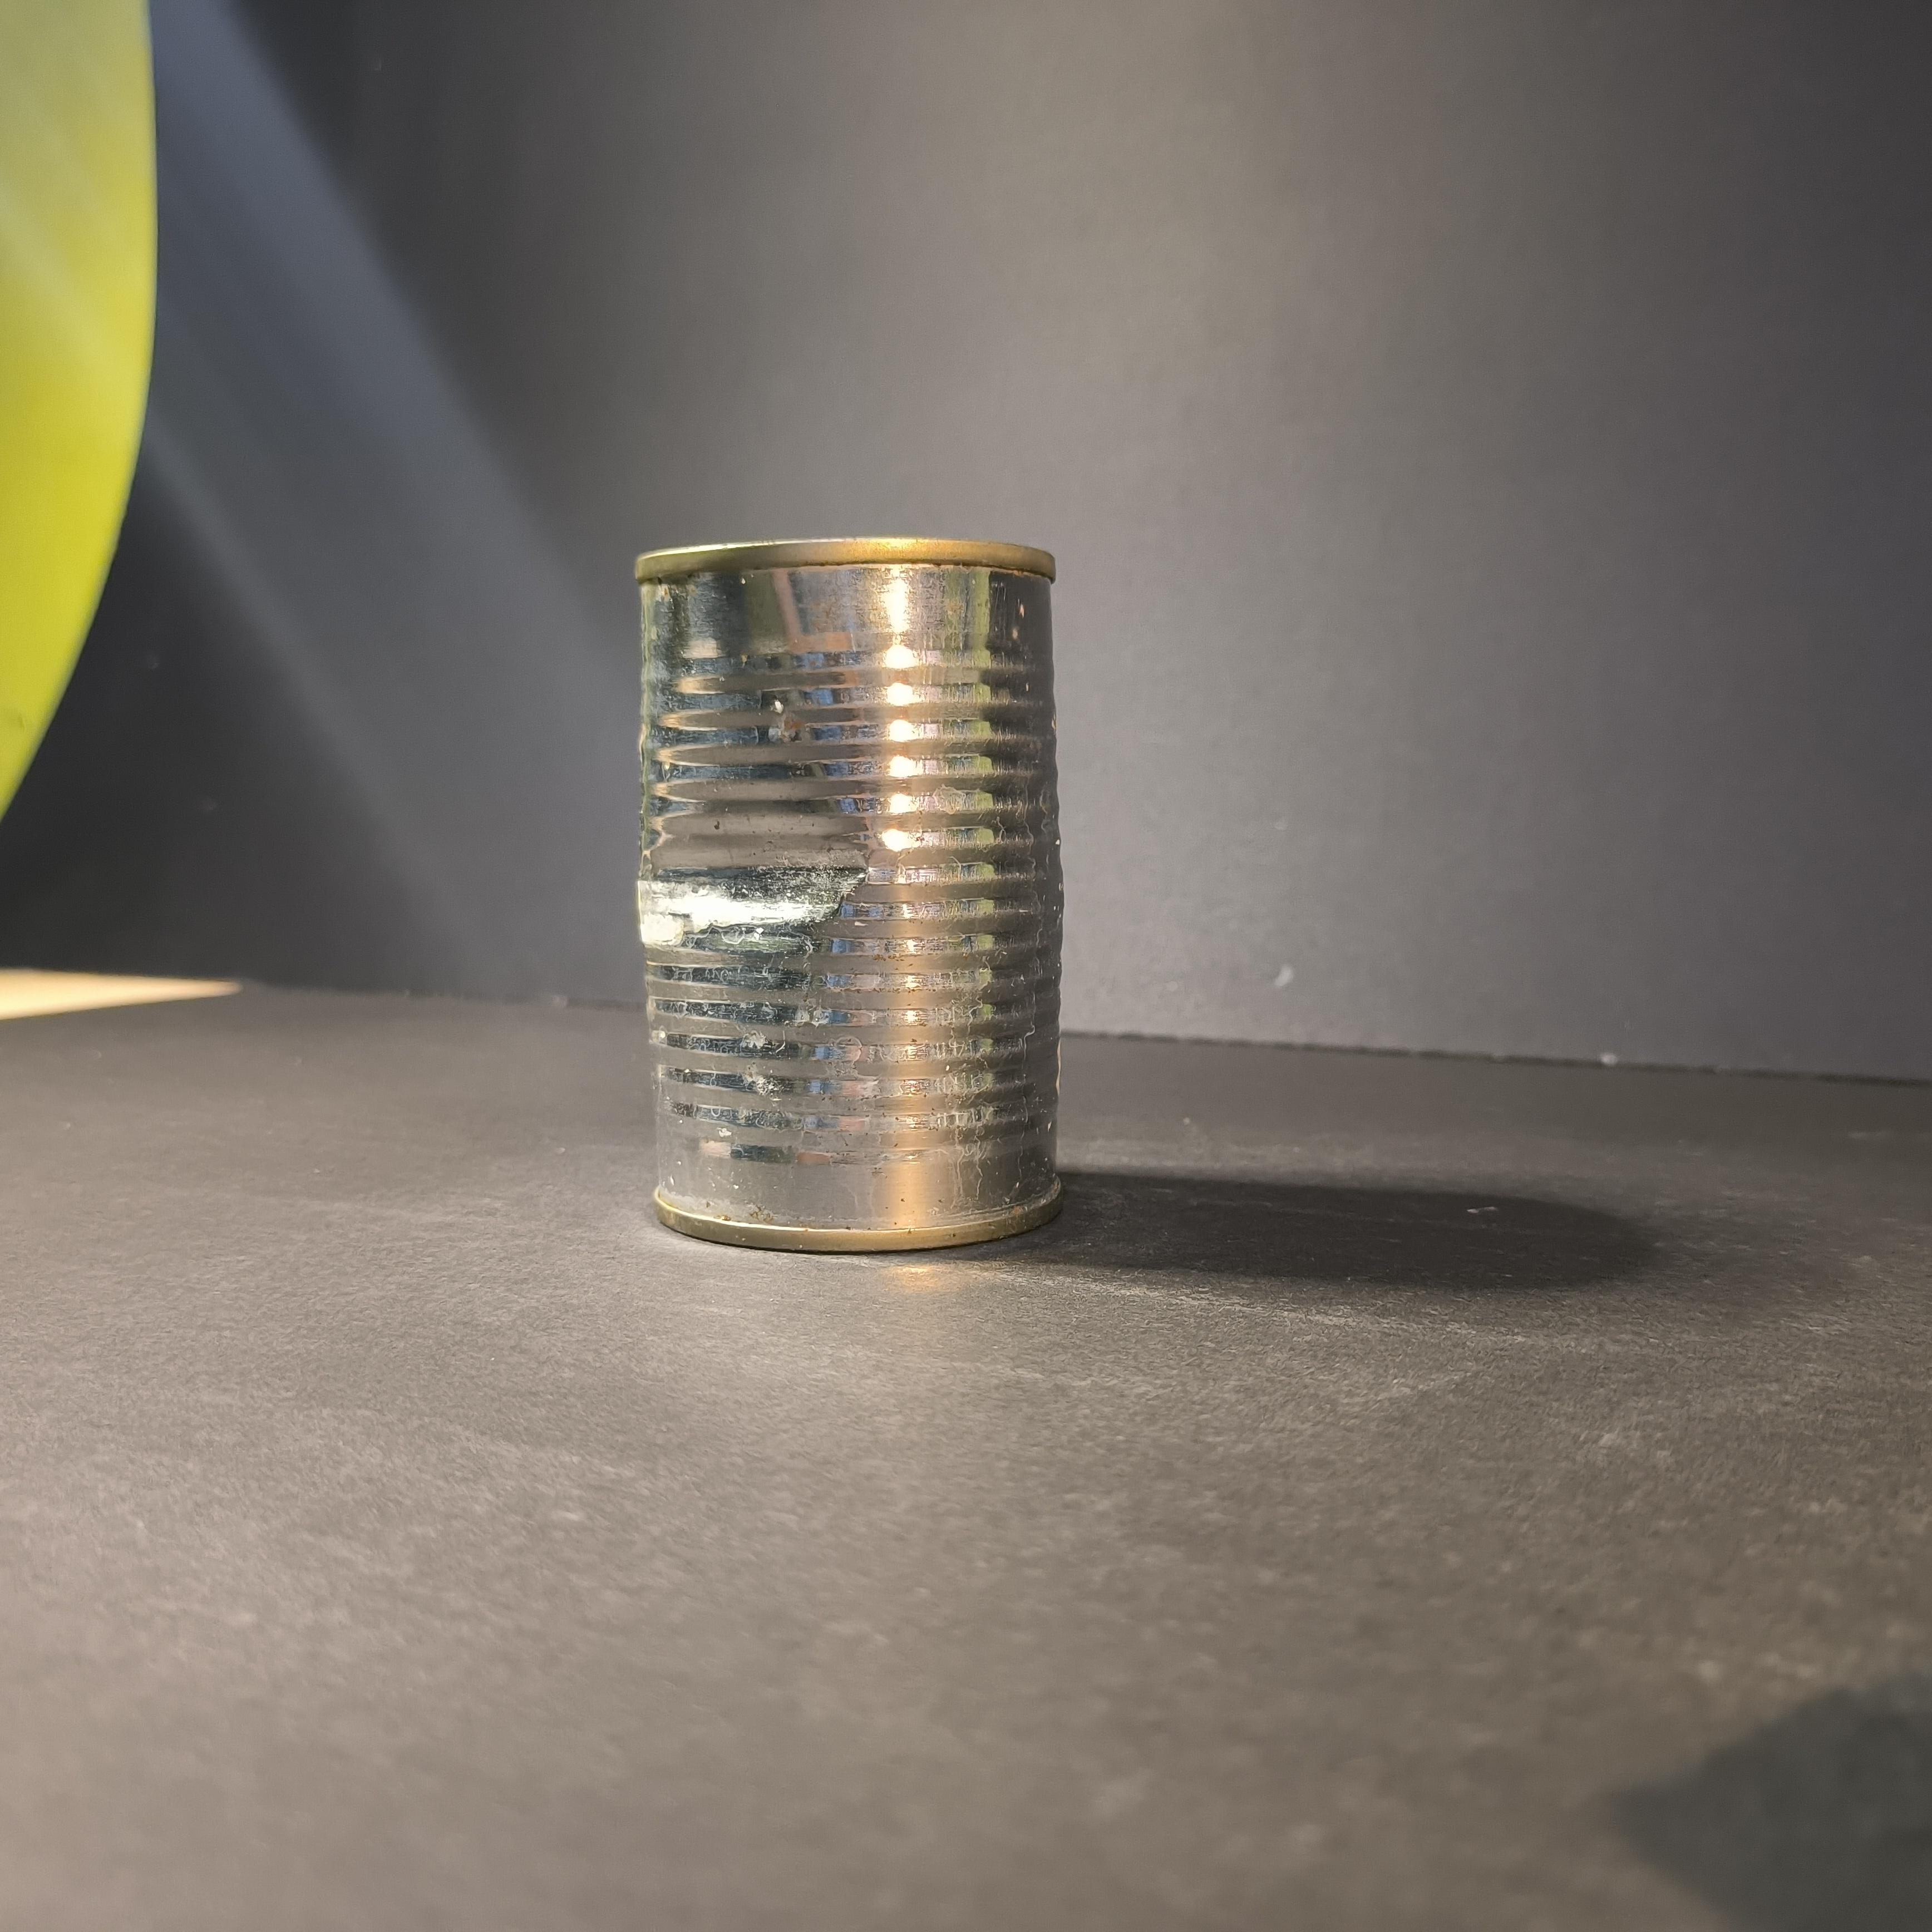Minor Defect: (630, 531, 1071, 1259)
